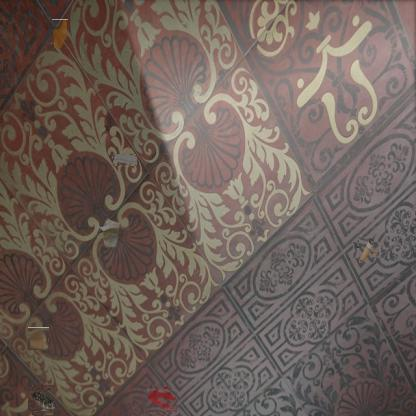dirty: (97, 218, 121, 249), (30, 387, 57, 413), (27, 328, 50, 350), (356, 239, 376, 261), (113, 154, 137, 166)
liquid: (148, 387, 176, 414), (52, 19, 68, 48)
